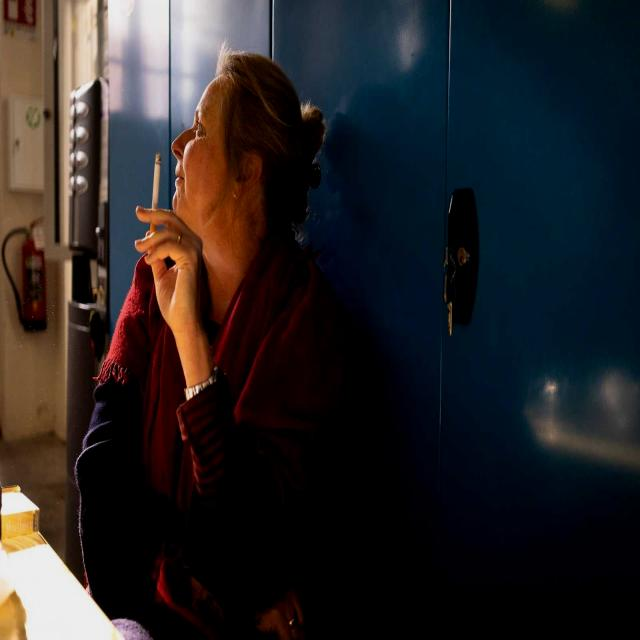Smooking: (146, 147, 166, 208)
